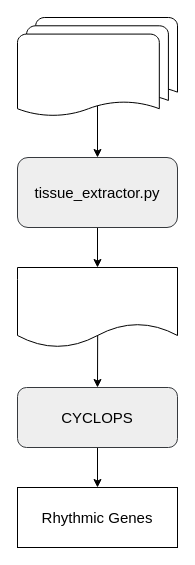
This 195x565 diagram has some shape labels left out. The centre of each missing label's shape, as x and y in pixels:
GTEx Collection (version 8): (97,67)
Tissue Expression Profile: (97,307)
